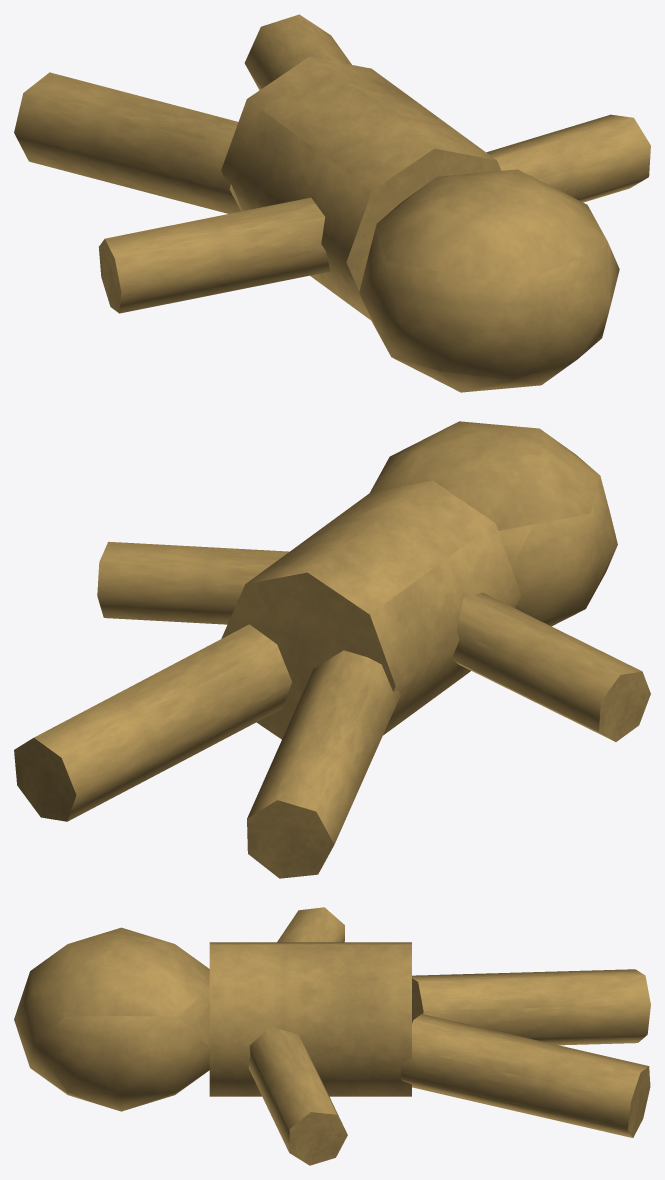
Rendered from item-WovenDoll.fbx.
3 renders of one model, top to bottom at view 1: azimuth 30°, elevation 25°; view 2: azimuth 150°, elevation 25°; view 3: azimuth 270°, elevation 25°, orthographic. The views are drawn at different scales.
Visible parts, largest first — view 1: item-WovenDoll__Geometry; view 2: item-WovenDoll__Geometry; view 3: item-WovenDoll__Geometry.
Boxes of the visible parts, x1,y1,x2,y2 form: item-WovenDoll__Geometry: (14,14,650,392); item-WovenDoll__Geometry: (14,421,650,878); item-WovenDoll__Geometry: (14,907,650,1165).
Bounding box in the file's own units: 0.3918 × 0.14 × 0.5042.
Materials: 1 (1 with a texture image).
